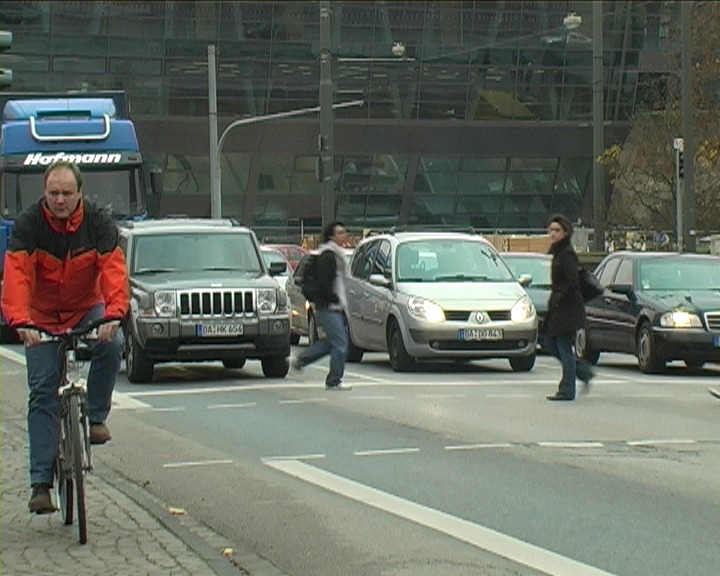deflection: (541, 218, 587, 296)
